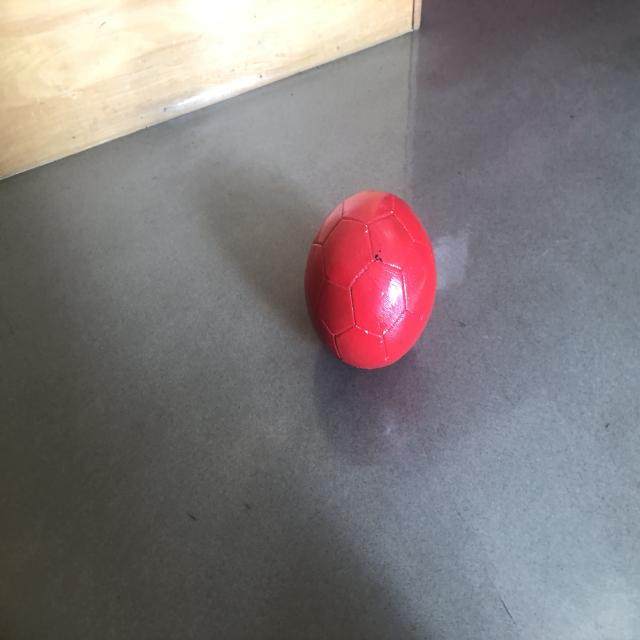red_ball: (305, 188, 436, 370)
